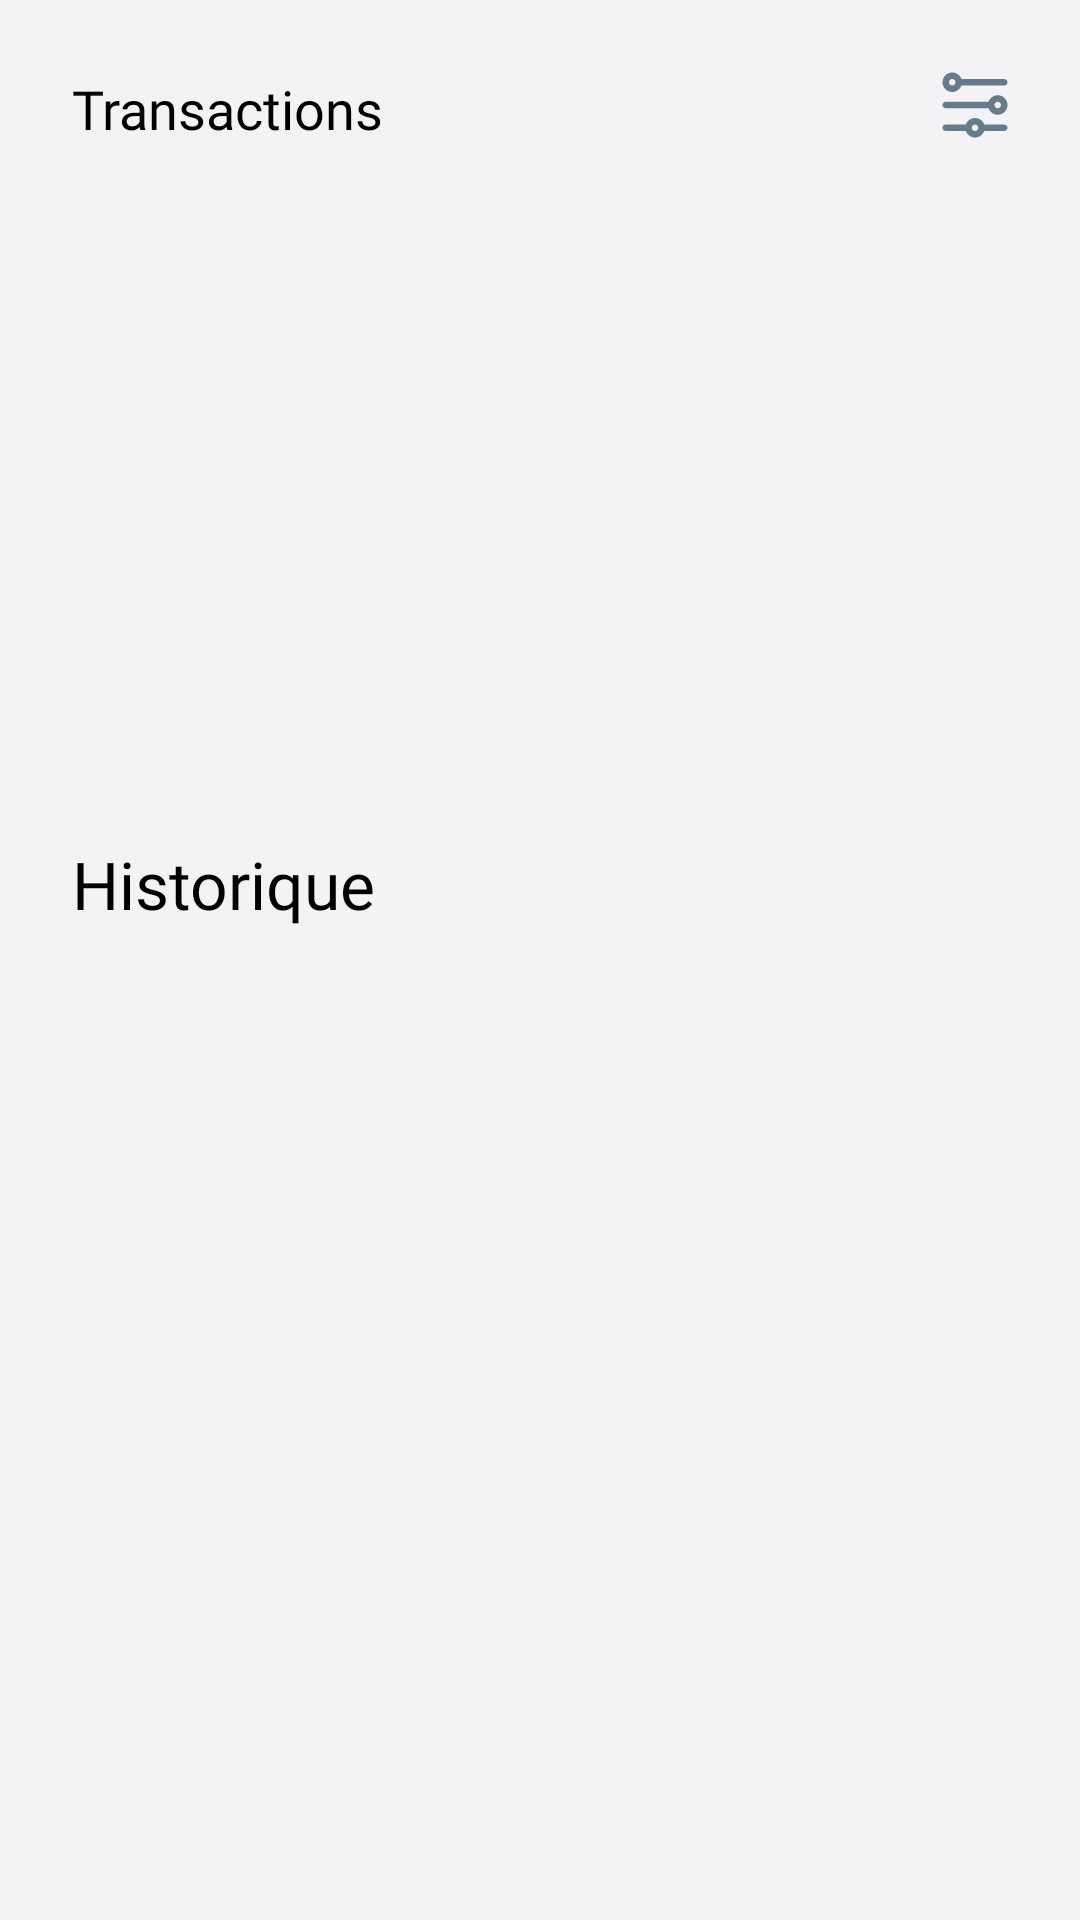

Named icons in this screenshot (1080 × 1920) and their bounding boxes, Rect(x1, y1, x2, y2):
filter: Rect(942, 72, 1008, 138)
